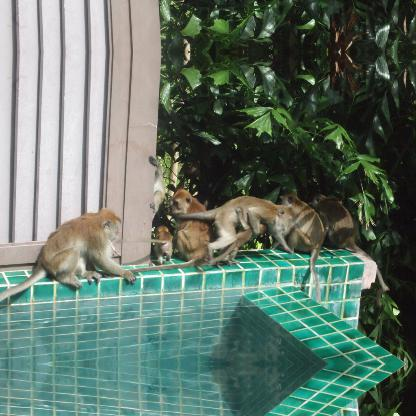Monkey: (0, 207, 135, 301), (310, 191, 388, 291), (175, 195, 293, 261), (129, 188, 207, 272), (279, 194, 327, 302), (214, 206, 268, 262), (142, 221, 170, 263), (148, 152, 164, 222)
